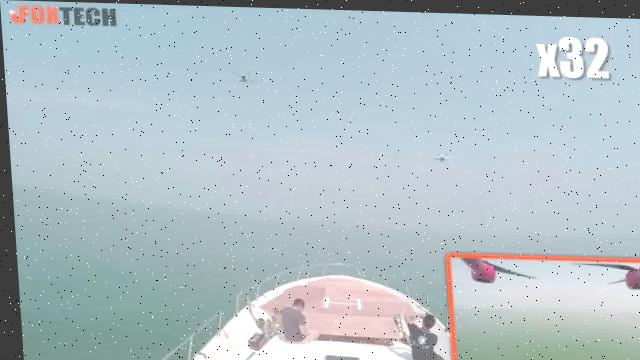drone: (227, 65, 260, 86), (425, 142, 452, 164)
